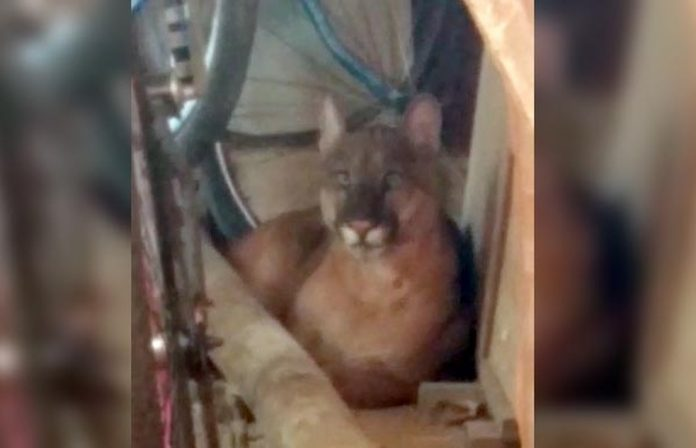OncaParda: (212, 85, 486, 413)
